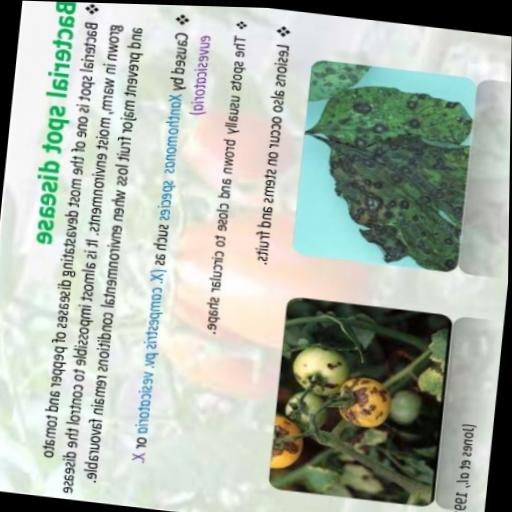Bacterial Spot: (299, 76, 474, 271)
